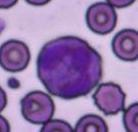E: (36, 36, 102, 98)
